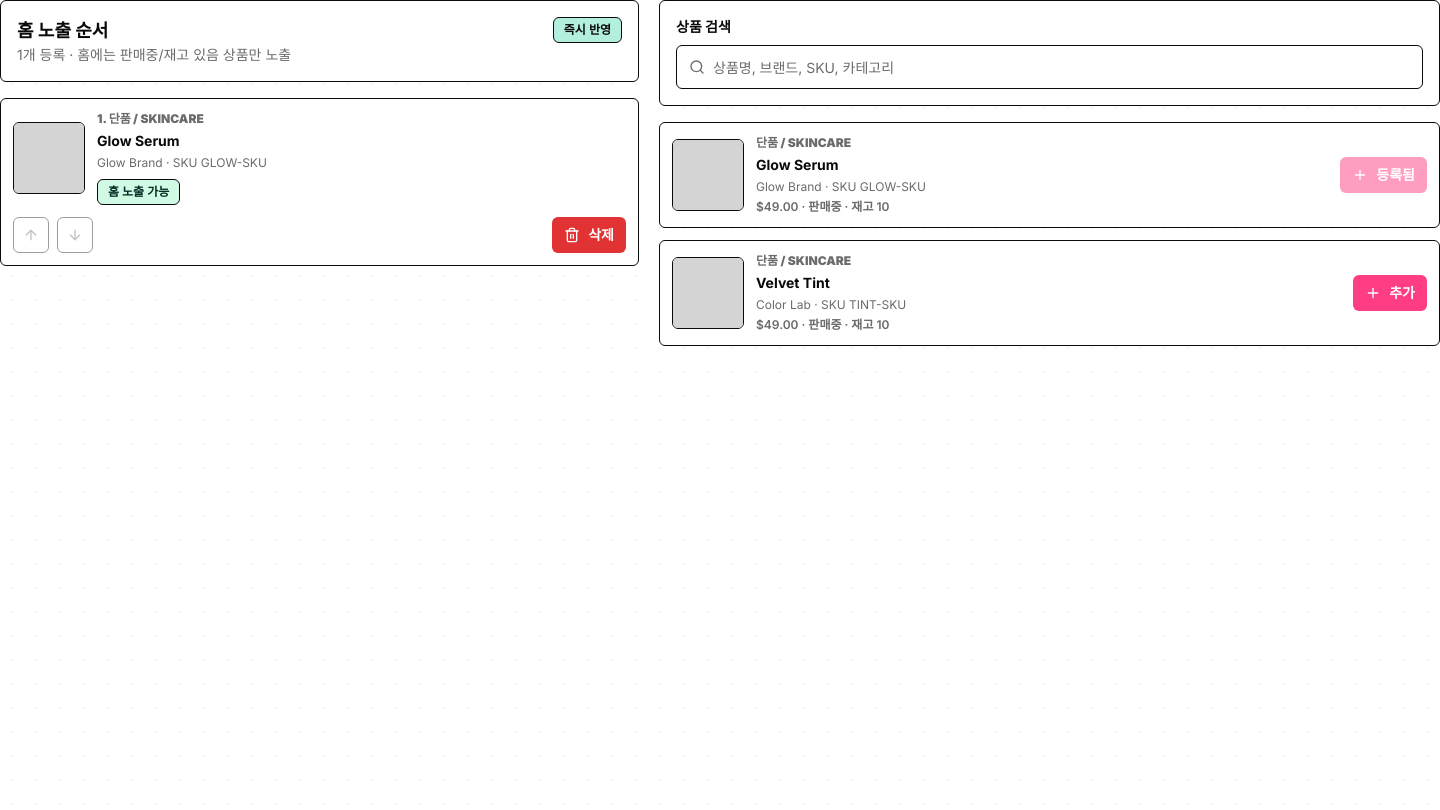
AdminHomeCurationClient › filters product search and disables already-curated products
The width and height of the screenshot is (1440, 810).
Expected: the button "등록됨" is disabled, [1340, 157, 1427, 193]
Type "tint" into the field named "큐레이션에 추가할 상품 검색" at (1062, 67), box [713, 46, 1410, 88]
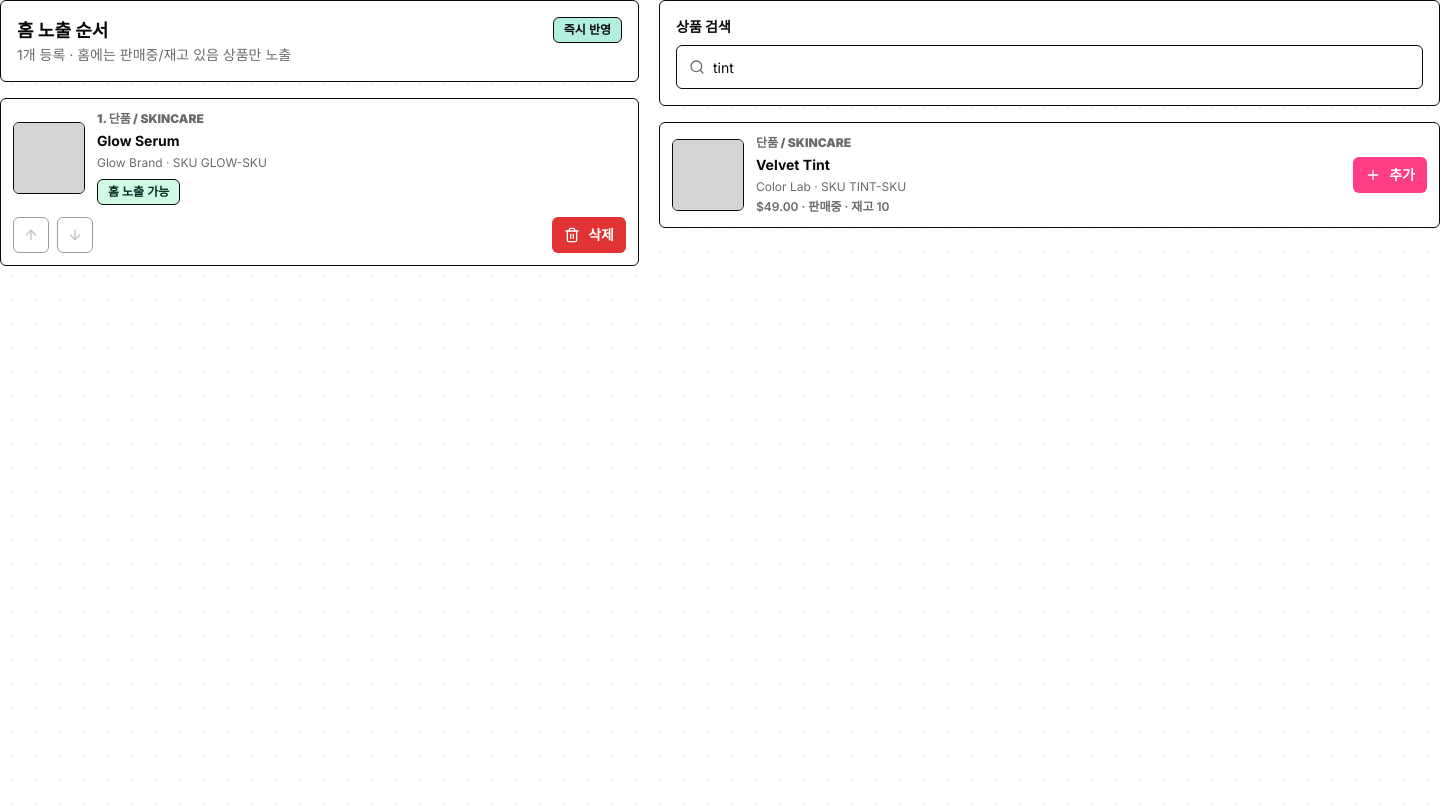
Expected: the heading "Velvet Tint" is shown, [756, 156, 830, 173]
Expected: the number of headings "Glow Serum" is 1, [97, 132, 180, 149]
Replace the text in the field named "큐레이션에 추가할 상품 검색" with "nothing" at (1062, 67), box [713, 46, 1410, 88]
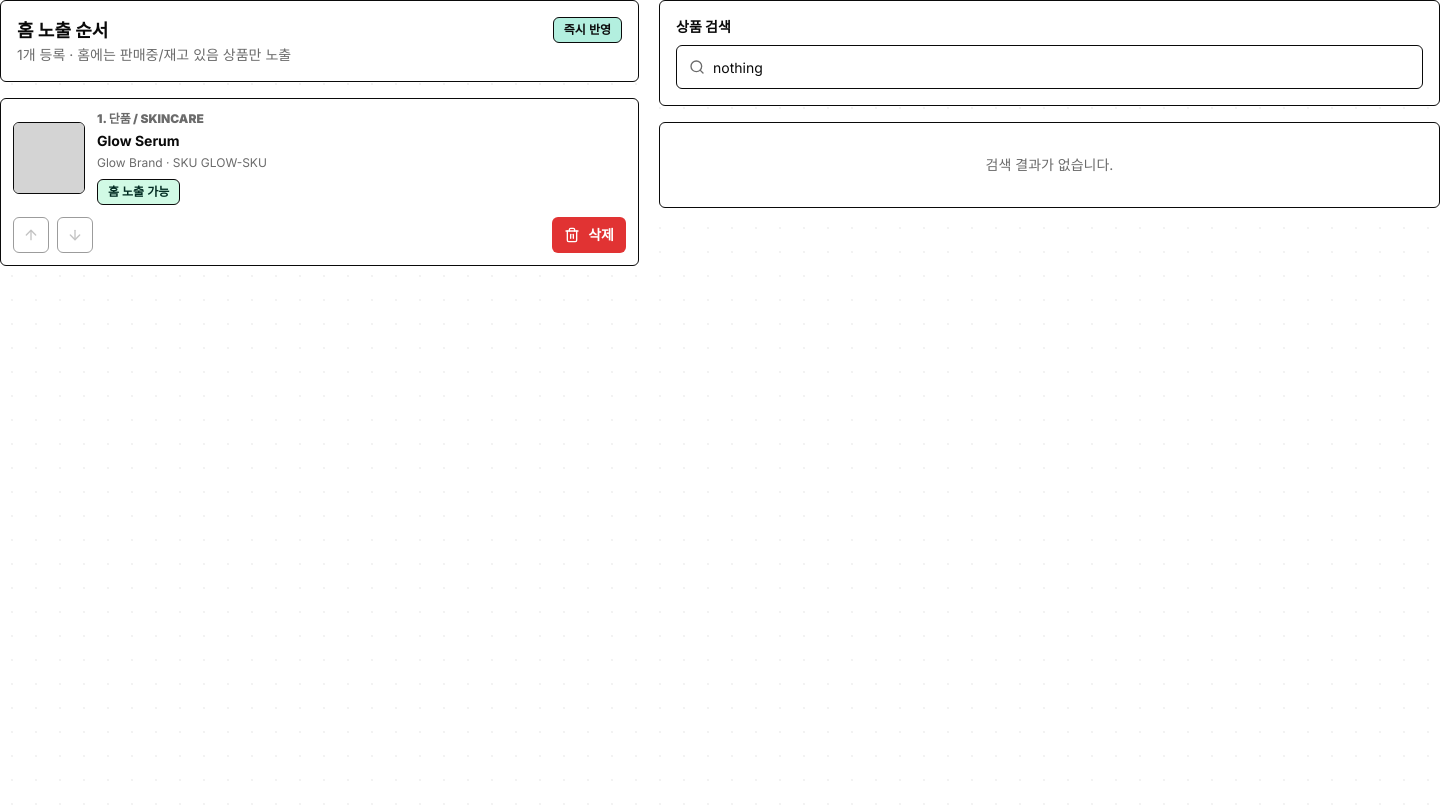
Expected: the text "검색 결과가 없습니다." is shown, [659, 122, 1439, 208]
